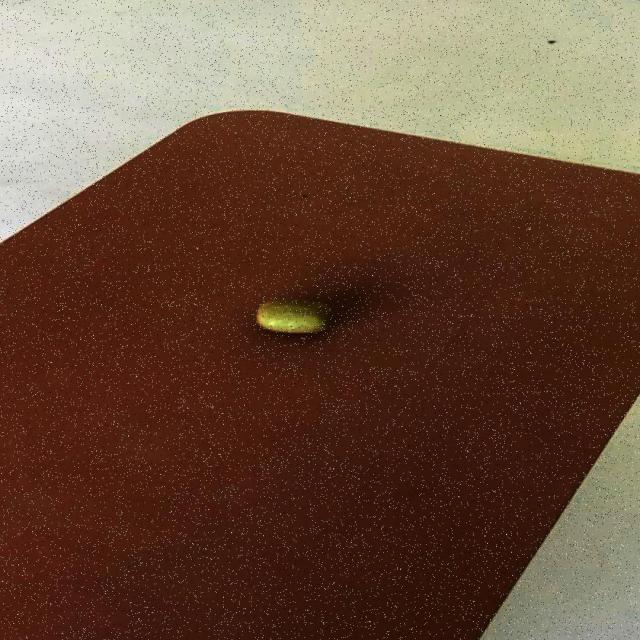Kiwi: (253, 298, 330, 334)
